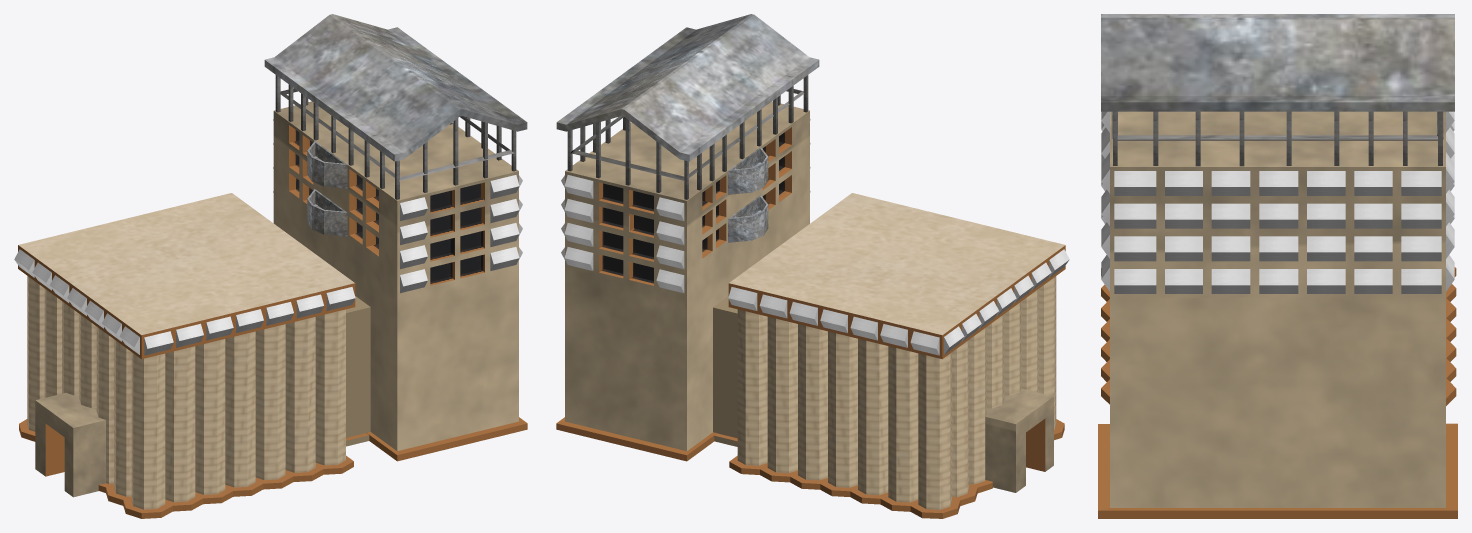
Rendered from silo2.fbx.
3 renders of one model, left to right at view 1: azimuth 30°, elevation 25°; view 2: azimuth 150°, elevation 25°; view 3: azimuth 270°, elevation 25°, orthographic. The views are drawn at different scales.
Parts seen in each view (by area): view 1: Cube.001; view 2: Cube.001; view 3: Cube.001.
Part boxes in pixels (bbox=[...]): Cube.001: bbox=[14, 14, 527, 518]; Cube.001: bbox=[556, 14, 1069, 518]; Cube.001: bbox=[1098, 14, 1457, 518].
Bounding box in the file's own units: 824 × 642 × 458.
